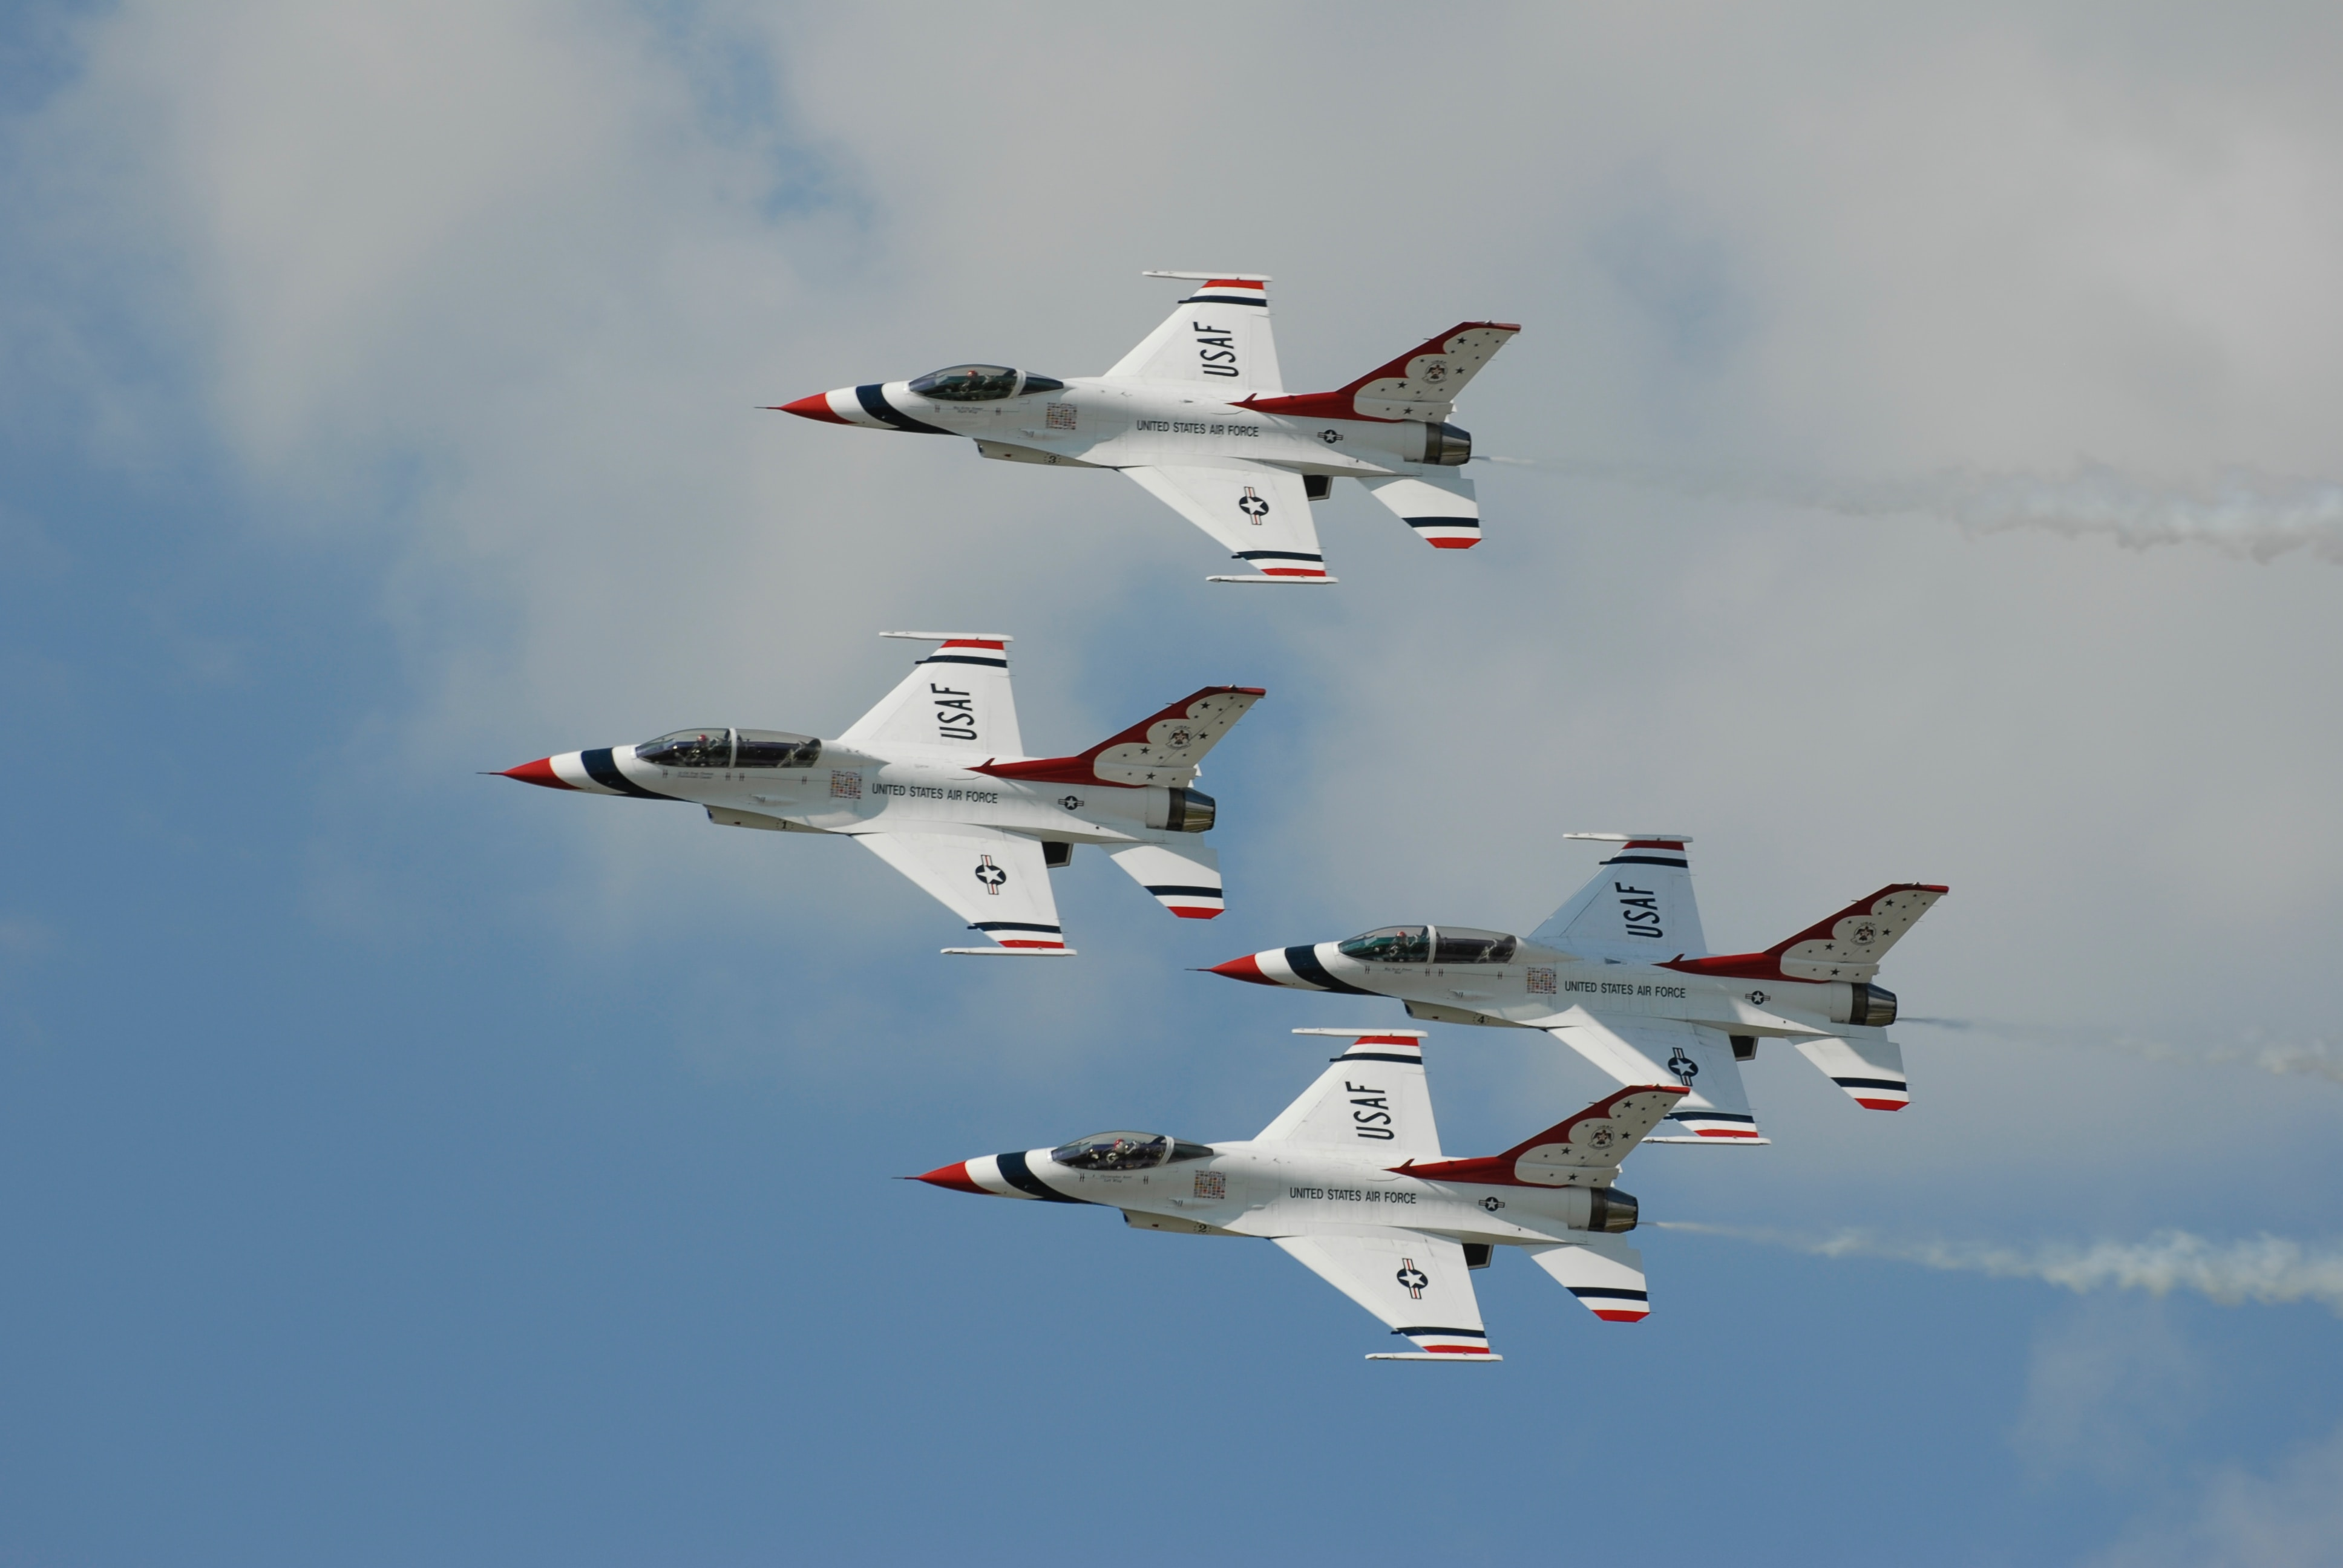airplane: (707, 165, 1645, 635)
